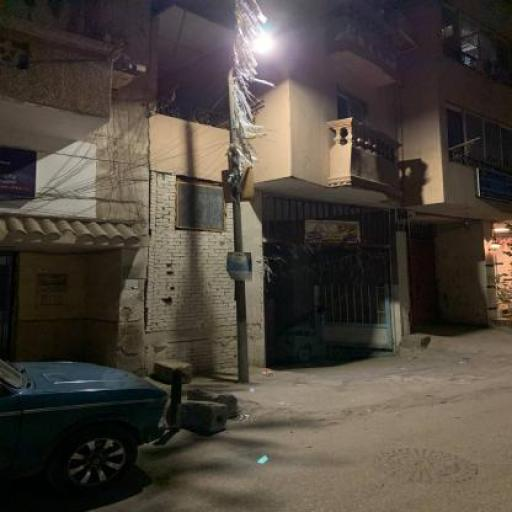street light: (228, 37, 275, 384)
